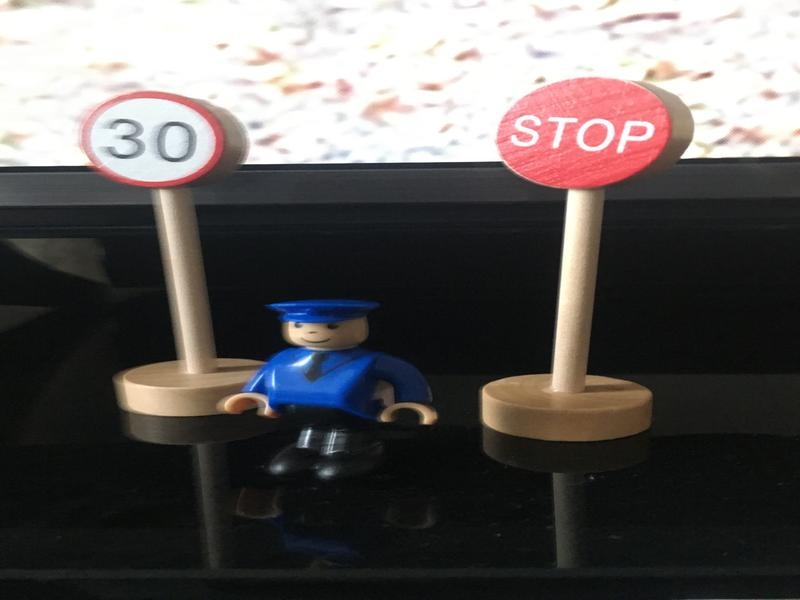Traffic_Sign_30: (80, 93, 221, 184)
Traffic_Sign_Stop: (497, 80, 674, 185)
person: (224, 298, 443, 489)
